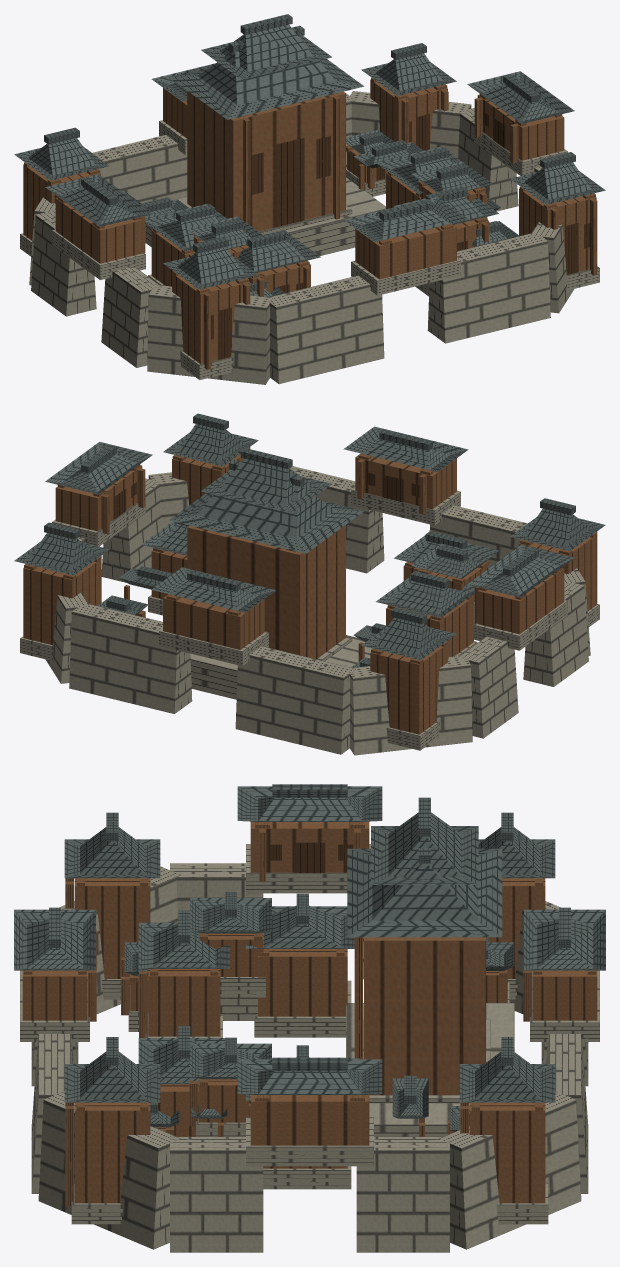
Rendered from city2-lod1.glb.
3 views of the same model, one above another, from view 1: azimuth 30°, elevation 25°; view 2: azimuth 150°, elevation 25°; view 3: azimuth 270°, elevation 25° (orthographic). The views are drawn at different scales.
Size of the model in its own units: 2.03 by 0.901 by 1.65.
1 material, 1 textured.
